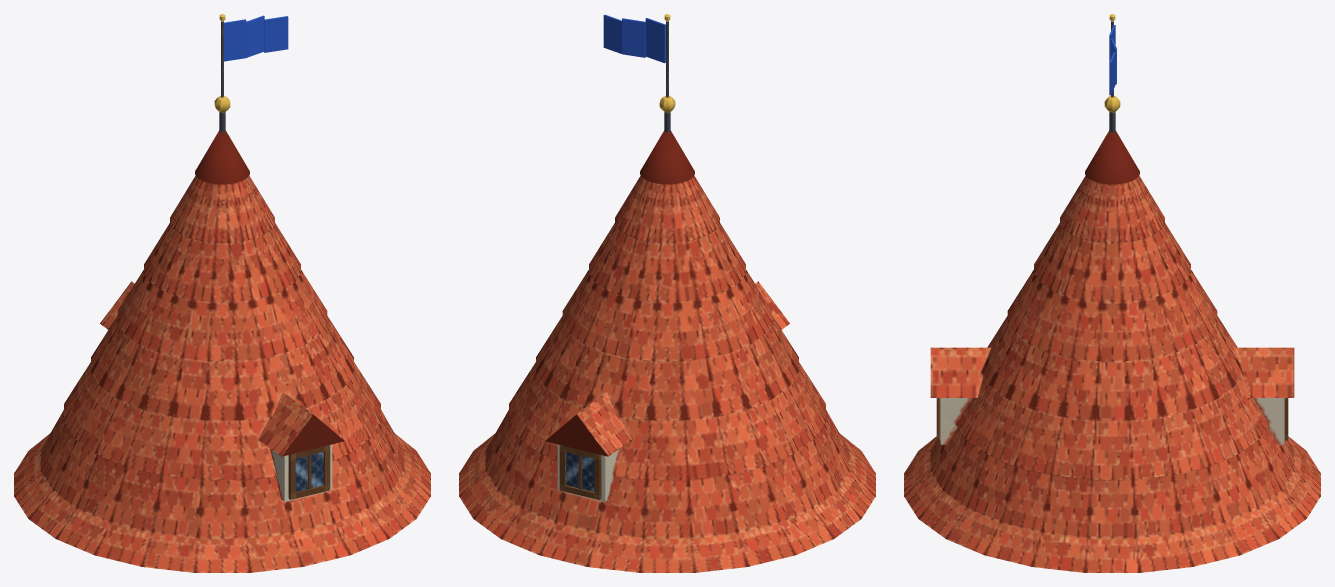
Rendered from Kit_Tower_Roof.fbx.
3 views of the same model, side by side, from view 1: azimuth 30°, elevation 25°; view 2: azimuth 150°, elevation 25°; view 3: azimuth 270°, elevation 25° (orthographic).
Visible parts, largest first — view 1: Kit_Tower_Roof_LOD0; view 2: Kit_Tower_Roof_LOD0; view 3: Kit_Tower_Roof_LOD0.
Boxes of the visible parts, x1,y1,x2,y2 form: Kit_Tower_Roof_LOD0: (14,14,430,572); Kit_Tower_Roof_LOD0: (459,14,875,572); Kit_Tower_Roof_LOD0: (904,14,1320,572).
Size of what is drawn, in the model's own units: 5.45 by 6.8 by 5.45.
Materials: 1 (1 with a texture image).
